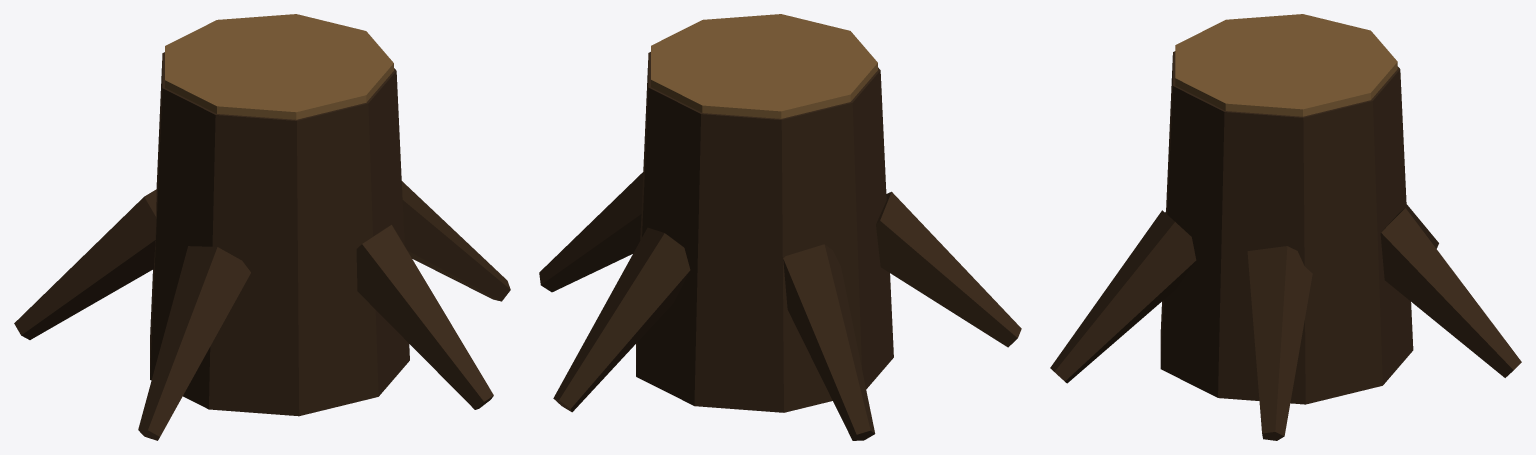
File: ground_stump_1.glb
3 renders of one model, left to right at view 1: azimuth 30°, elevation 25°; view 2: azimuth 150°, elevation 25°; view 3: azimuth 270°, elevation 25°, orthographic. The views are drawn at different scales.
Parts seen in each view (by area): view 1: wood; view 2: wood; view 3: wood.
Boxes of the visible parts, bbox=[...] form: wood: bbox=[14, 14, 510, 440]; wood: bbox=[539, 14, 1021, 440]; wood: bbox=[1050, 14, 1521, 440].
Bounding box in the file's own units: 1.17 × 0.782 × 1.16.
